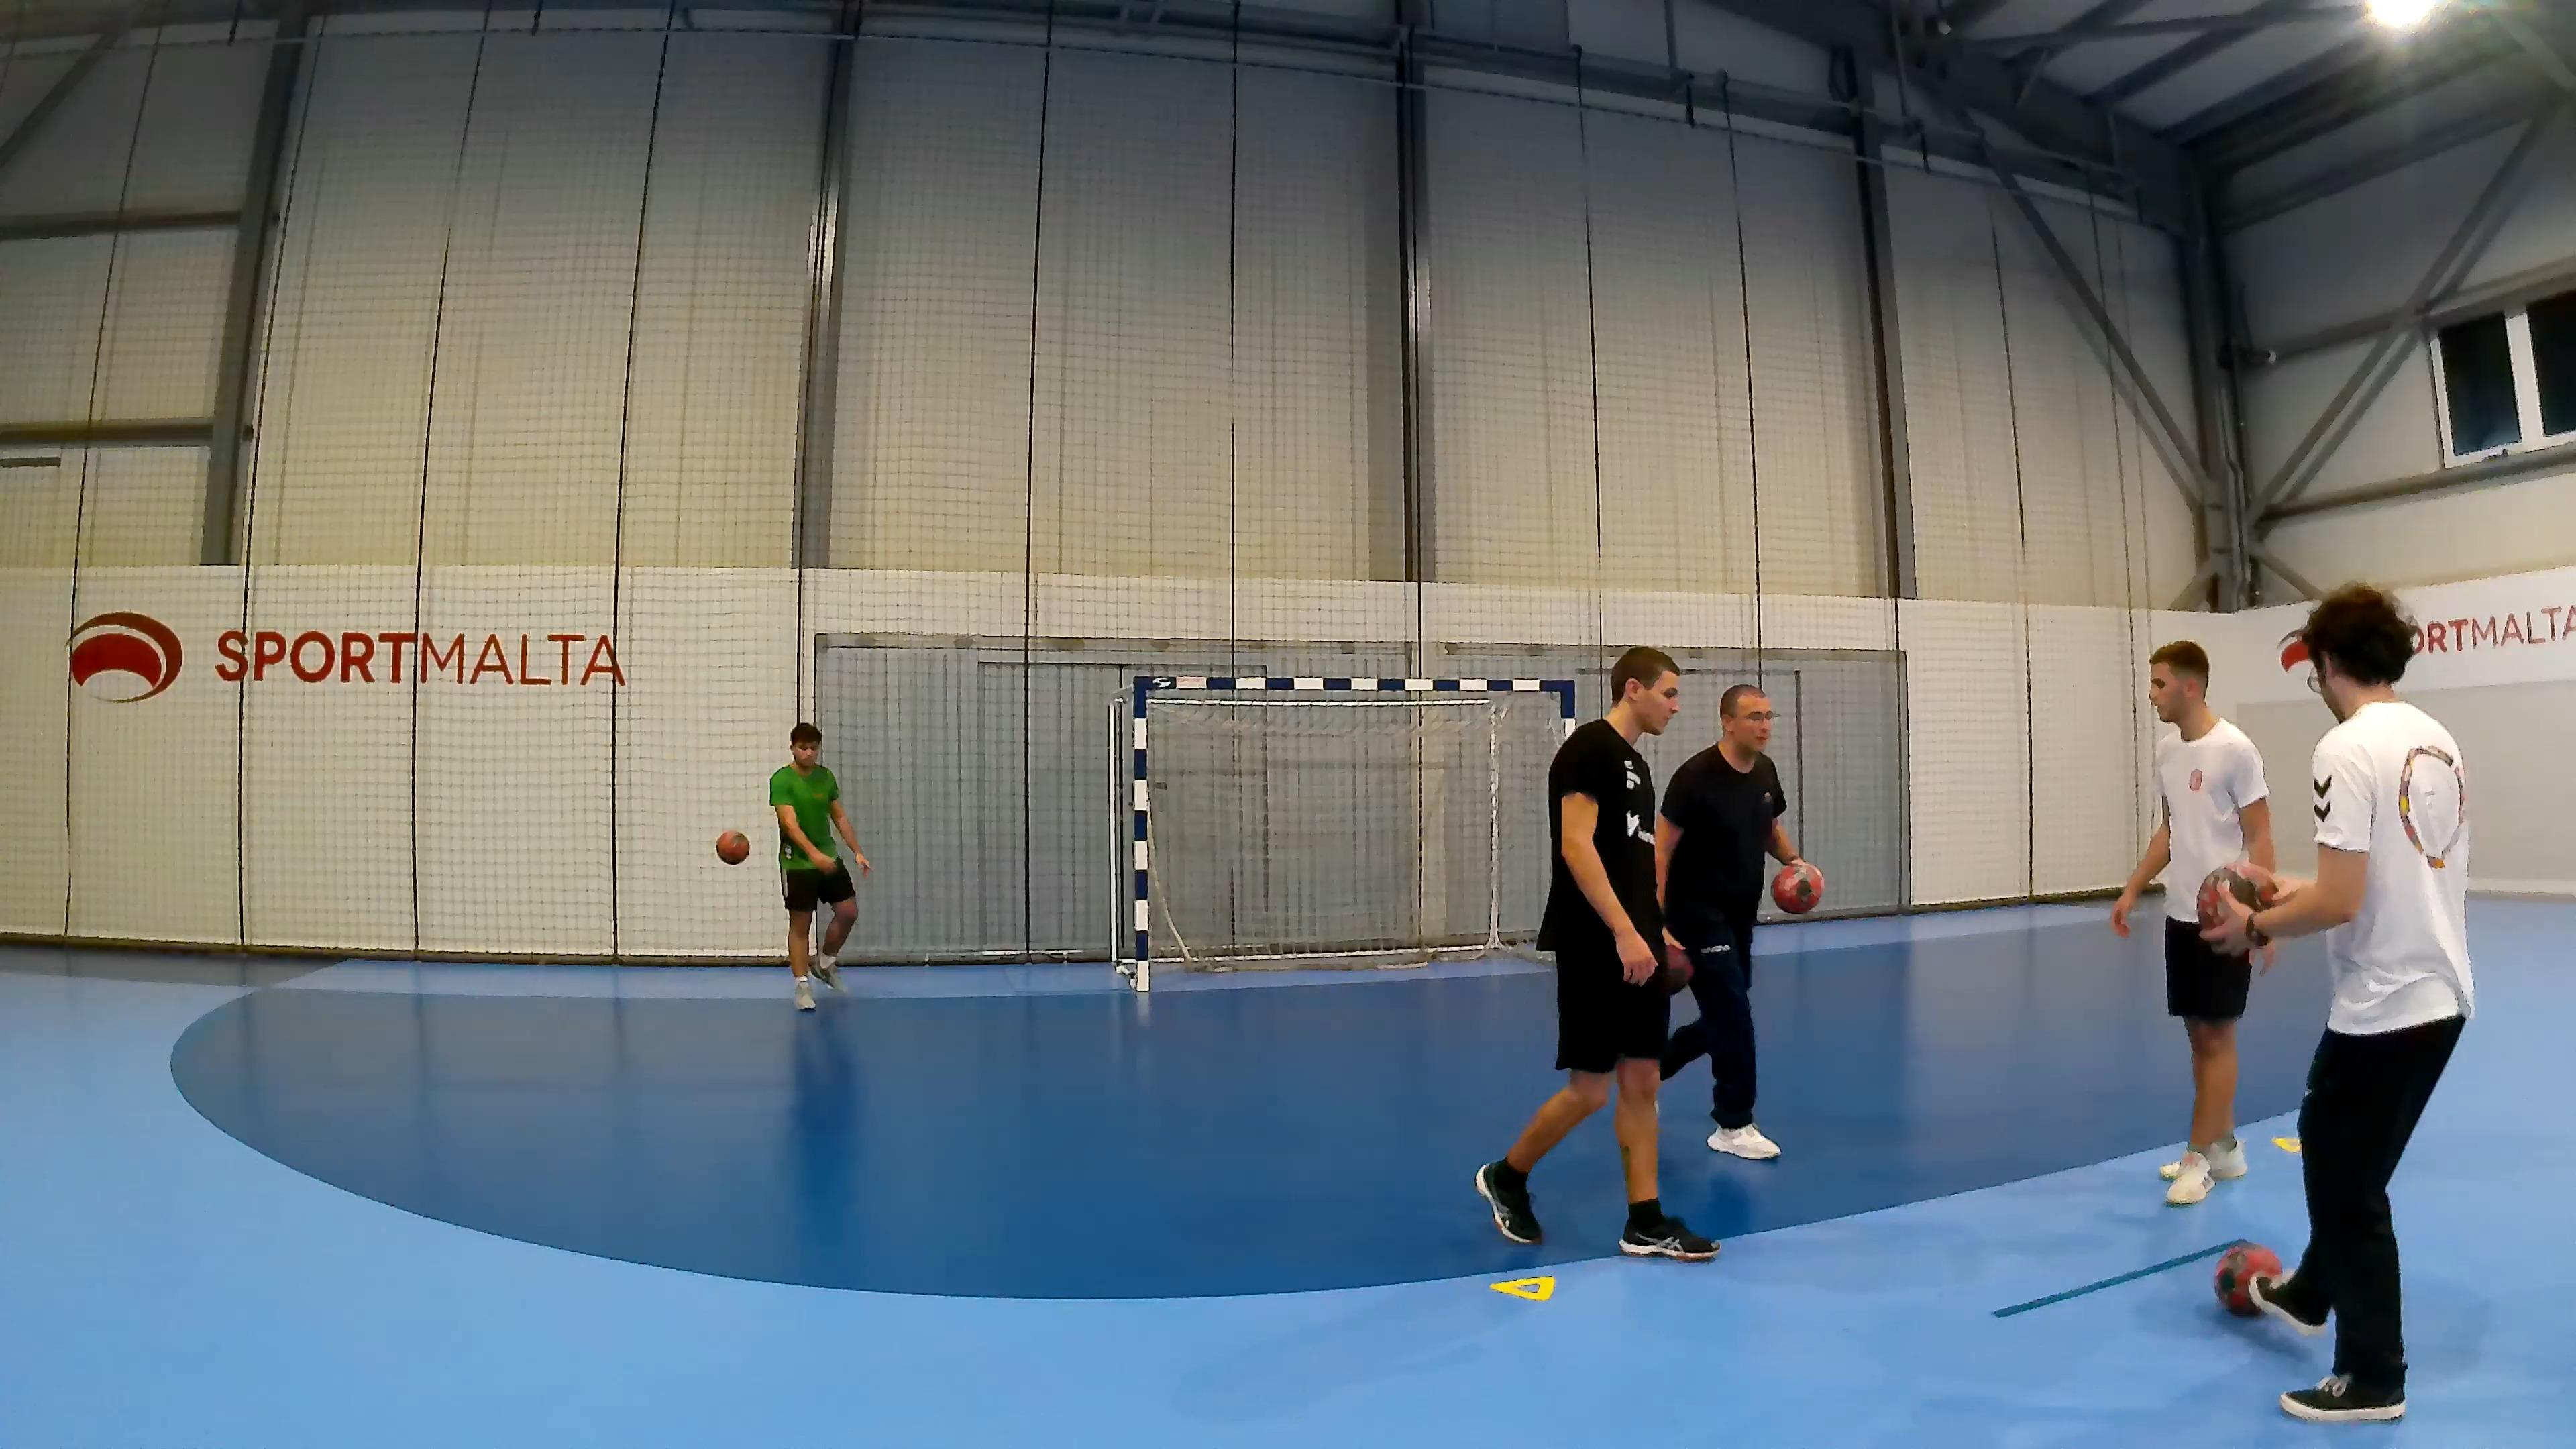handball: (2194, 863, 2270, 938), (2213, 1240, 2282, 1316), (1771, 860, 1824, 915), (715, 830, 748, 863)
